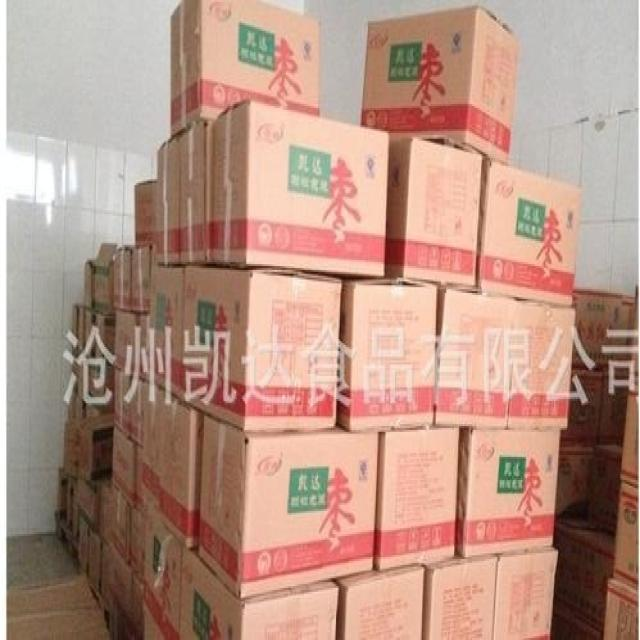box: (199, 413, 381, 600), (208, 100, 390, 278), (181, 264, 341, 432), (360, 6, 521, 164), (171, 0, 321, 141), (434, 283, 573, 428), (336, 276, 436, 436), (476, 158, 582, 308), (383, 135, 484, 285), (178, 546, 339, 640), (454, 426, 559, 555), (375, 422, 458, 573), (553, 519, 617, 640), (158, 391, 204, 546), (333, 565, 426, 640), (423, 551, 499, 640), (8, 574, 110, 640), (493, 546, 559, 640), (142, 515, 190, 640), (146, 262, 186, 401), (180, 116, 215, 264), (571, 289, 623, 370), (139, 380, 167, 519), (559, 366, 603, 447), (154, 131, 180, 264), (97, 482, 131, 573), (589, 443, 623, 532), (554, 447, 594, 520), (614, 478, 640, 590), (598, 370, 630, 449), (113, 312, 150, 380), (103, 544, 133, 627), (80, 411, 113, 482), (110, 428, 139, 505), (605, 578, 640, 640), (131, 493, 153, 582), (622, 389, 640, 488), (94, 245, 117, 314), (130, 241, 151, 314), (135, 179, 155, 249), (94, 308, 117, 368), (627, 287, 640, 391), (114, 245, 133, 314), (113, 368, 131, 438), (76, 478, 97, 538), (131, 376, 146, 453), (62, 420, 80, 478), (130, 567, 144, 636), (87, 532, 101, 601), (74, 519, 90, 576), (71, 303, 85, 360), (144, 607, 167, 640), (65, 378, 83, 420), (82, 305, 94, 366), (55, 468, 69, 520), (85, 258, 96, 310)
